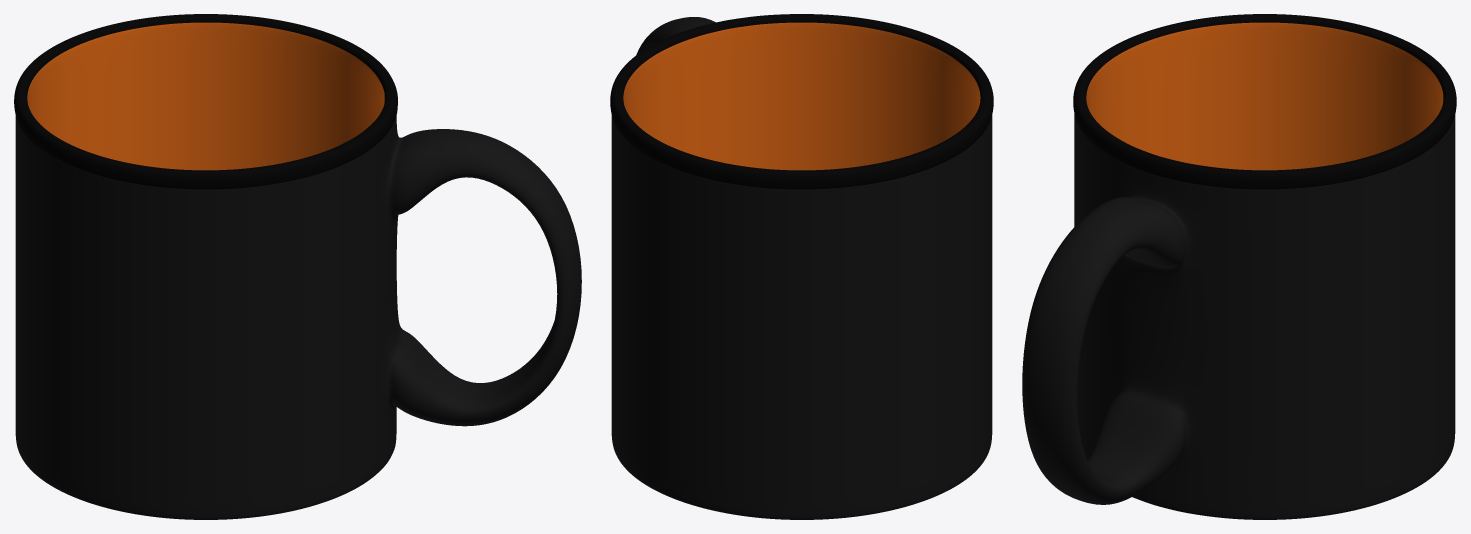
Rendered from mug.glb.
The picture shows the model from 3 angles, left to right: view 1: azimuth 30°, elevation 25°; view 2: azimuth 150°, elevation 25°; view 3: azimuth 270°, elevation 25°; orthographic projection.
Visible parts, largest first — view 1: Cop_0; view 2: Cop_0; view 3: Cop_0.
Part boxes in pixels (x1,y1,x2,y2): Cop_0: (14, 14, 581, 519); Cop_0: (610, 14, 993, 519); Cop_0: (1022, 14, 1456, 519).
Size of what is drawn, in the model's own units: 0.1889 by 0.1428 by 0.1619.
